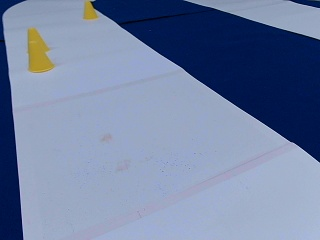cone: (25, 28, 54, 71), (82, 1, 96, 19)
